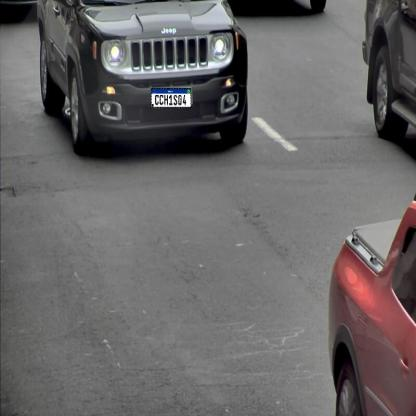PlacaM: (151, 88, 191, 108)
